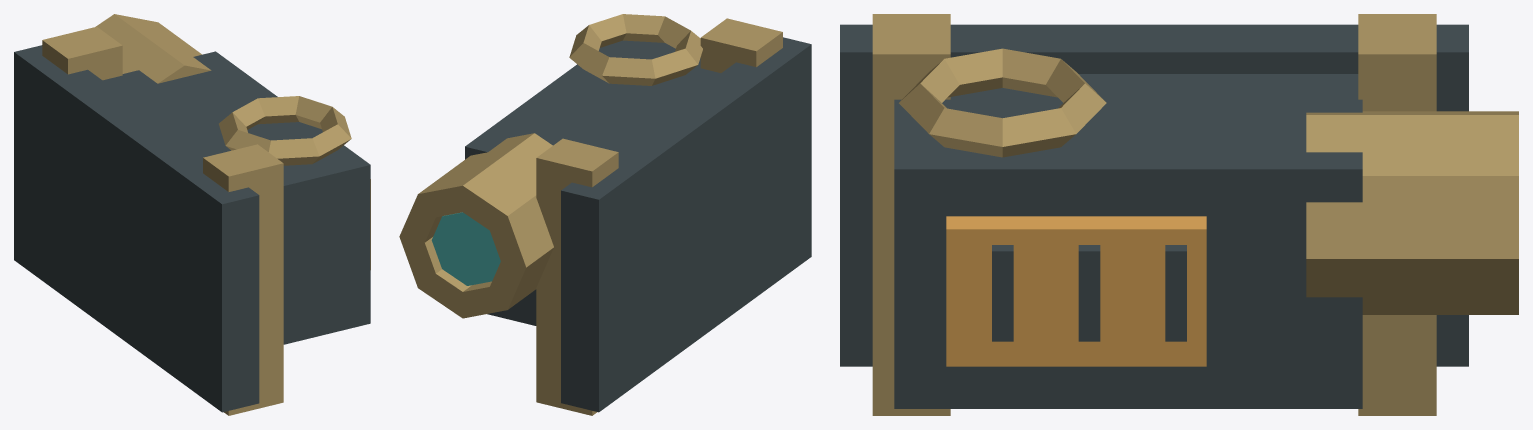
File: Socket_740.fbx
3 renders of one model, left to right at view 1: azimuth 30°, elevation 25°; view 2: azimuth 150°, elevation 25°; view 3: azimuth 270°, elevation 25°, orthographic. The views are drawn at different scales.
Visible parts, largest first — view 1: Socket_740; view 2: Socket_740; view 3: Socket_740.
Boxes of the visible parts, <box> form: Socket_740: <box>14,14,370,415</box>; Socket_740: <box>399,14,811,415</box>; Socket_740: <box>840,14,1518,415</box>.
Size of the model in its own units: 0.0775 by 0.093 by 0.1565.
